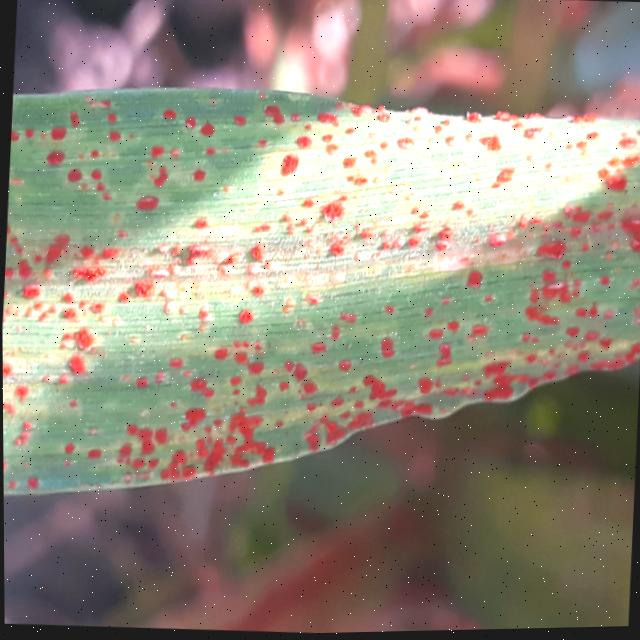orang_rust: (0, 69, 640, 545)
